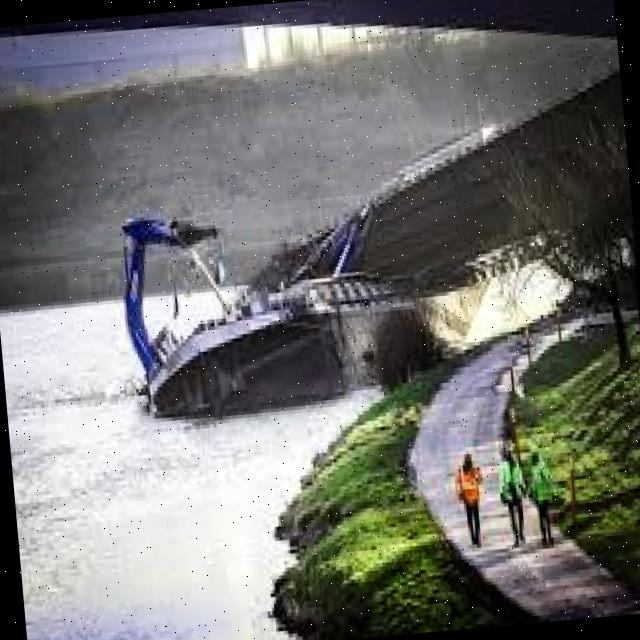bridge collapse: (56, 22, 632, 550)
